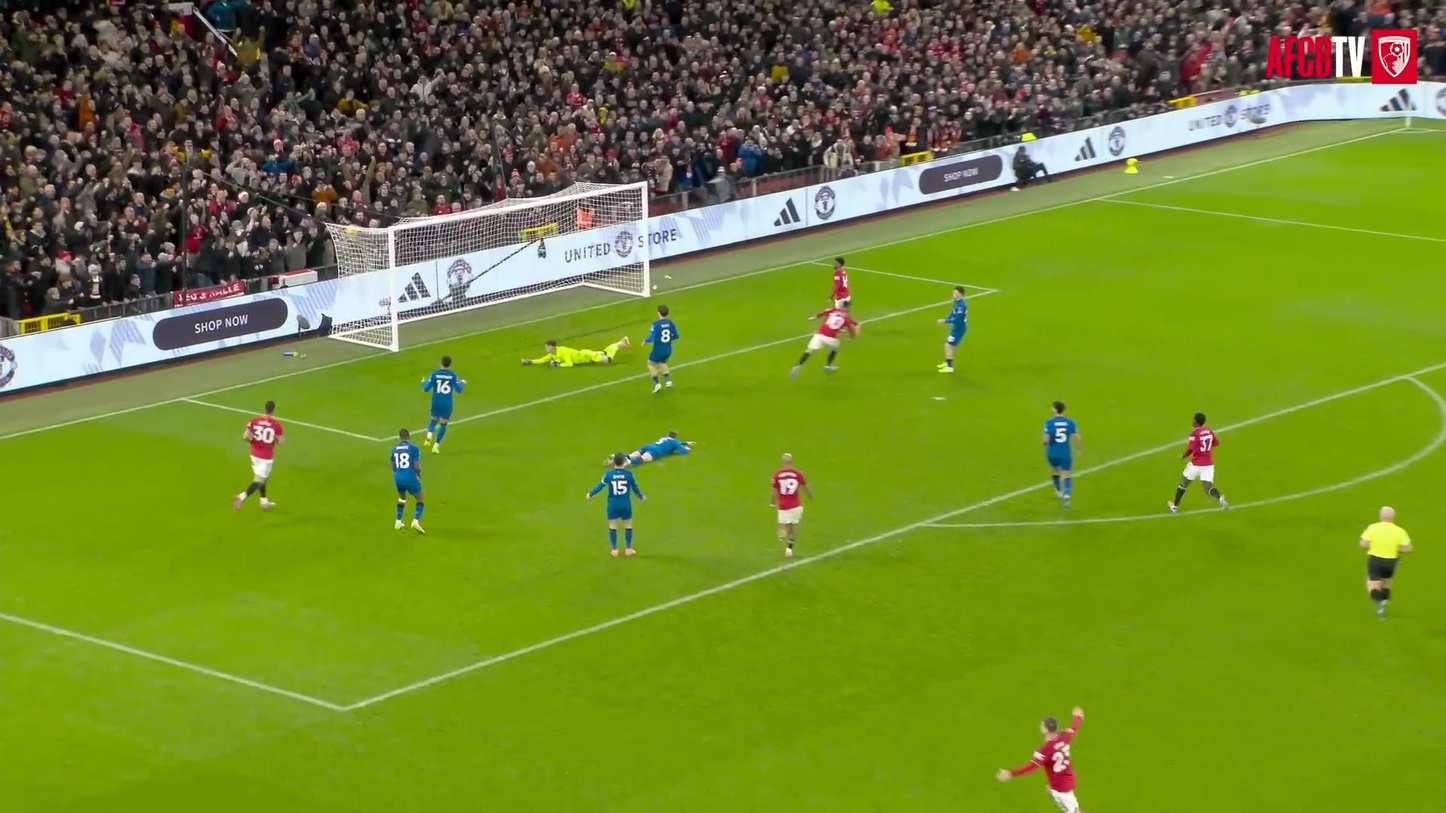player: (996, 707, 1083, 812), (1167, 413, 1228, 512), (587, 453, 645, 556), (233, 401, 283, 510), (789, 300, 859, 377), (770, 454, 813, 556), (422, 355, 465, 452), (1043, 400, 1079, 507), (391, 429, 424, 532), (521, 336, 630, 367), (644, 306, 678, 392), (938, 286, 967, 372), (625, 431, 695, 465), (832, 257, 851, 307)
referee: (1359, 507, 1411, 617)
